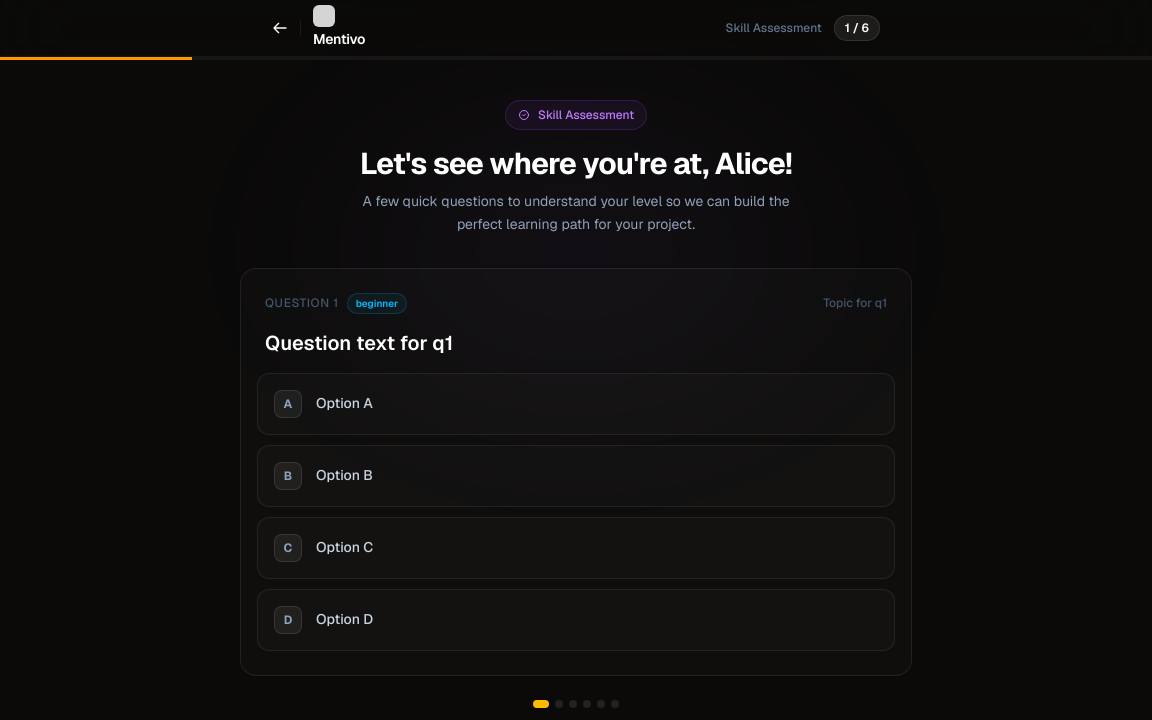
Test: QuizView › shows "Exactly right!" when the correct option is selected
Click the text "Option A" at (344, 404), box [316,394,373,414]
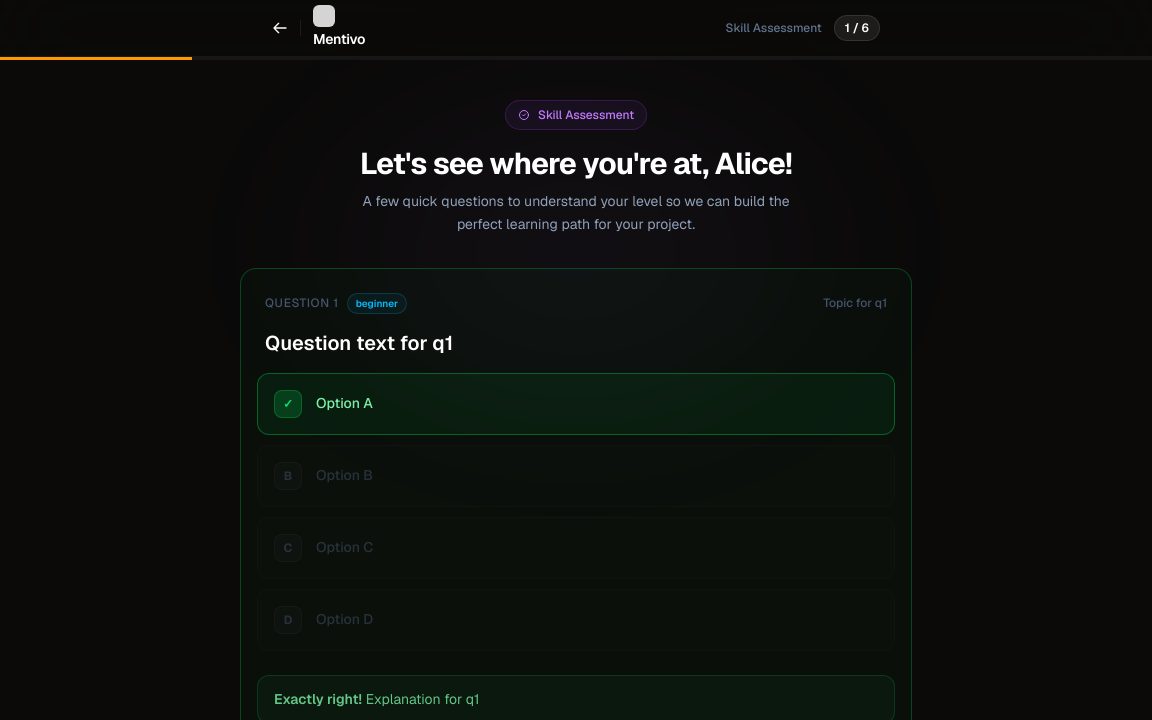
Expected: the text "Exactly right!" is shown, [274,690,362,708]
